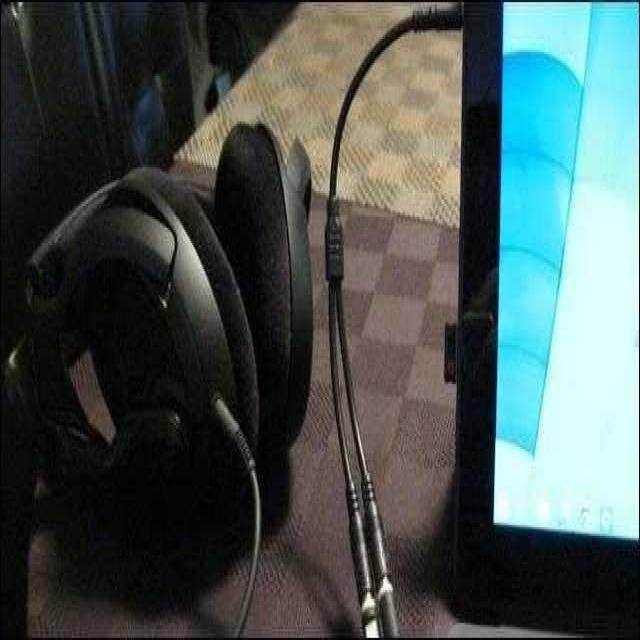microphone: (343, 252, 402, 640)
